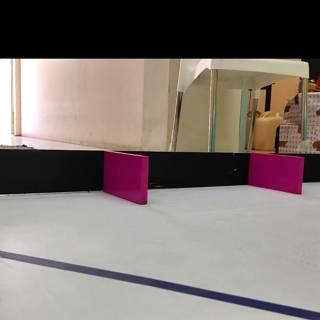xparking: (107, 156, 147, 204), (252, 156, 302, 194)
